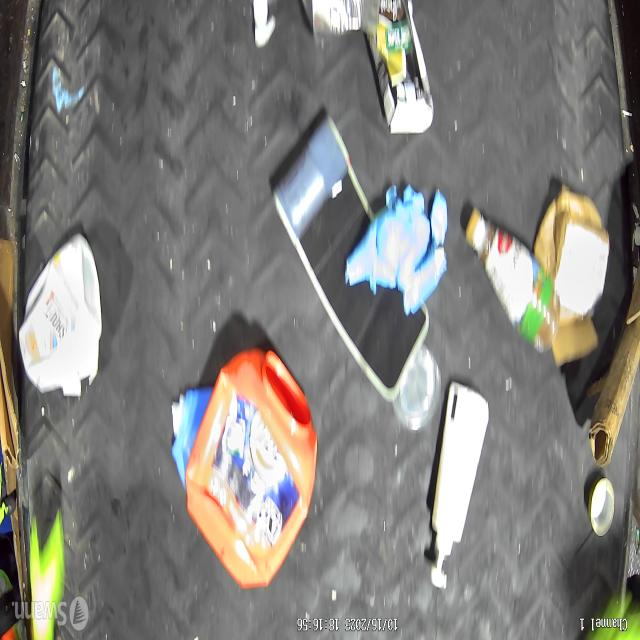can: (393, 345, 440, 431), (587, 477, 615, 537)
milk_jug: (18, 228, 102, 399)
non_white_jug: (183, 343, 319, 587)
